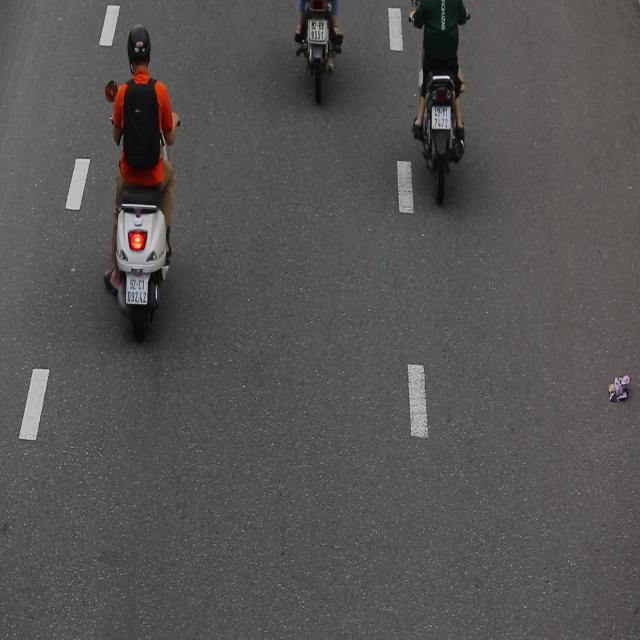motorbike: (100, 20, 188, 355)
